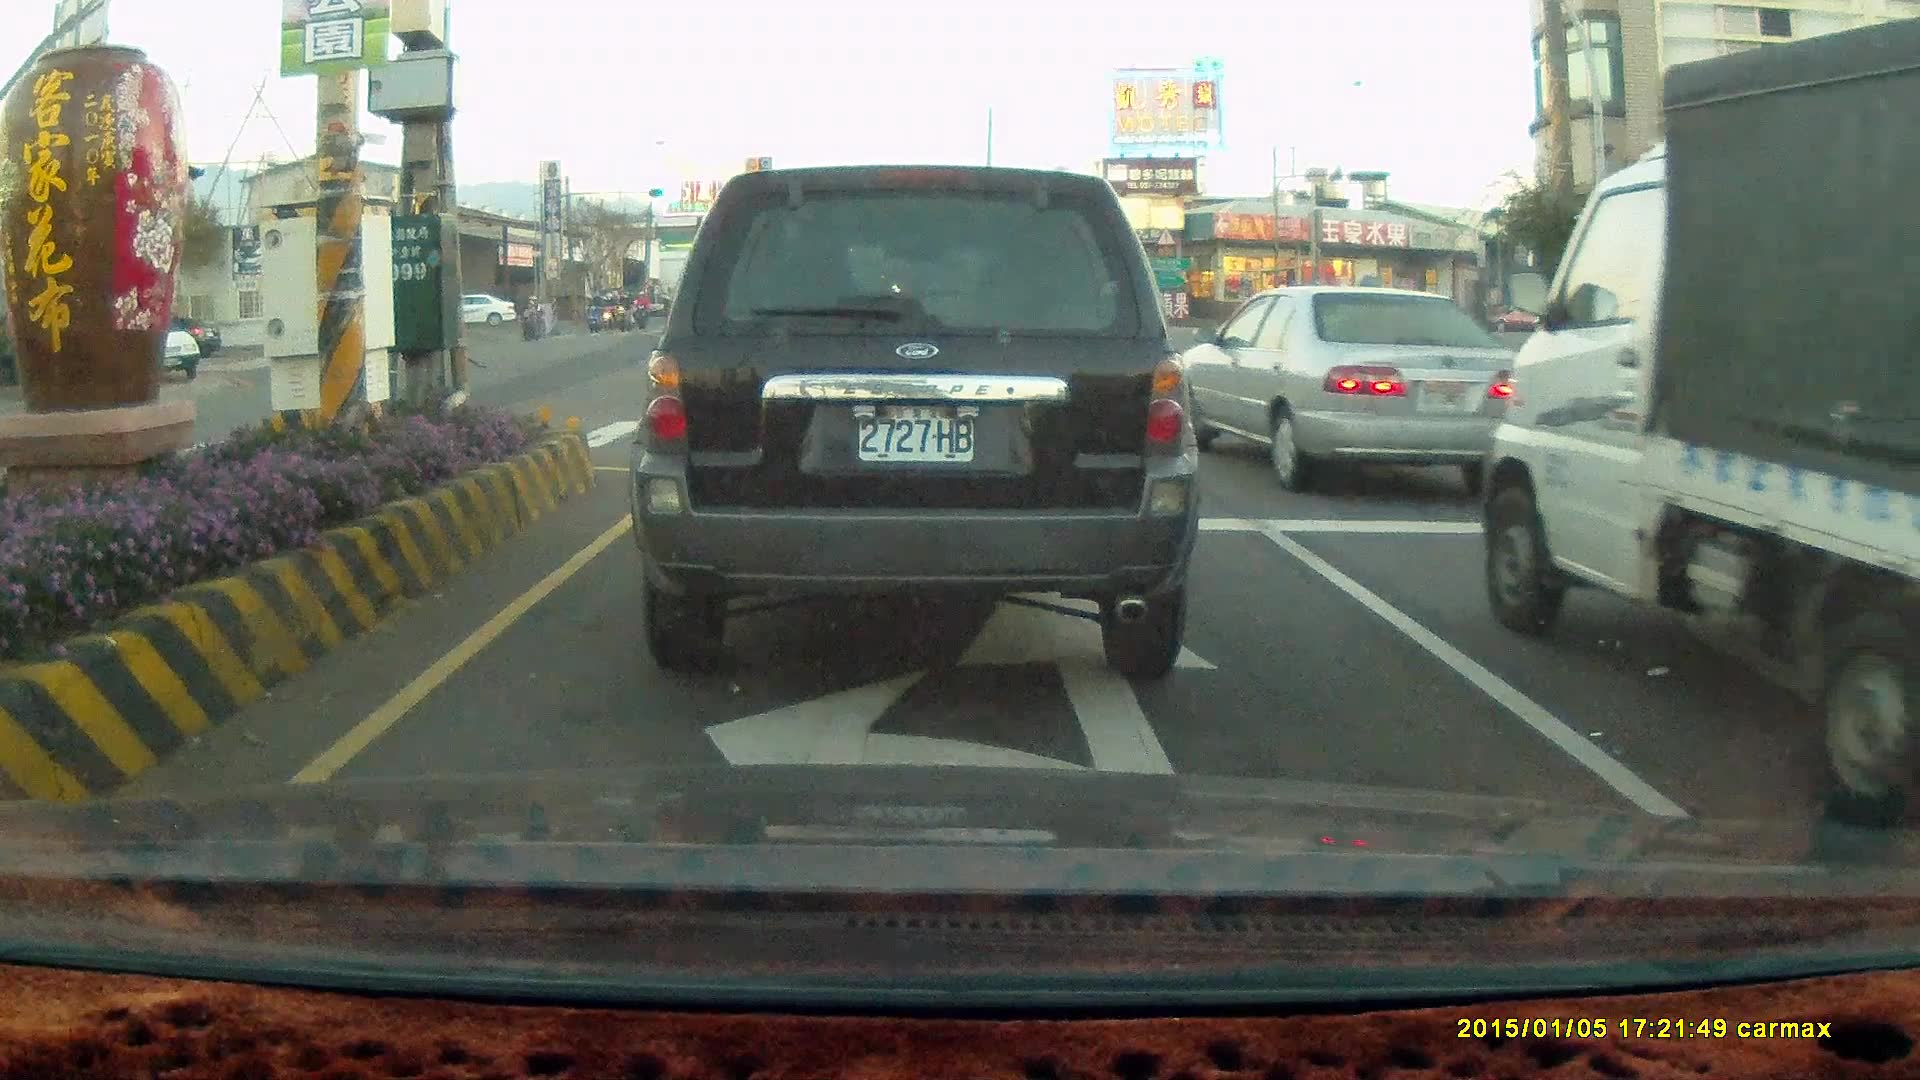rider: (512, 293, 543, 341), (614, 289, 639, 336), (583, 290, 604, 335), (587, 294, 609, 333)
vehicle: (1480, 12, 1920, 835), (626, 162, 1199, 679), (1170, 282, 1532, 492), (1156, 287, 1513, 490), (1679, 282, 1836, 371), (448, 296, 516, 328)
